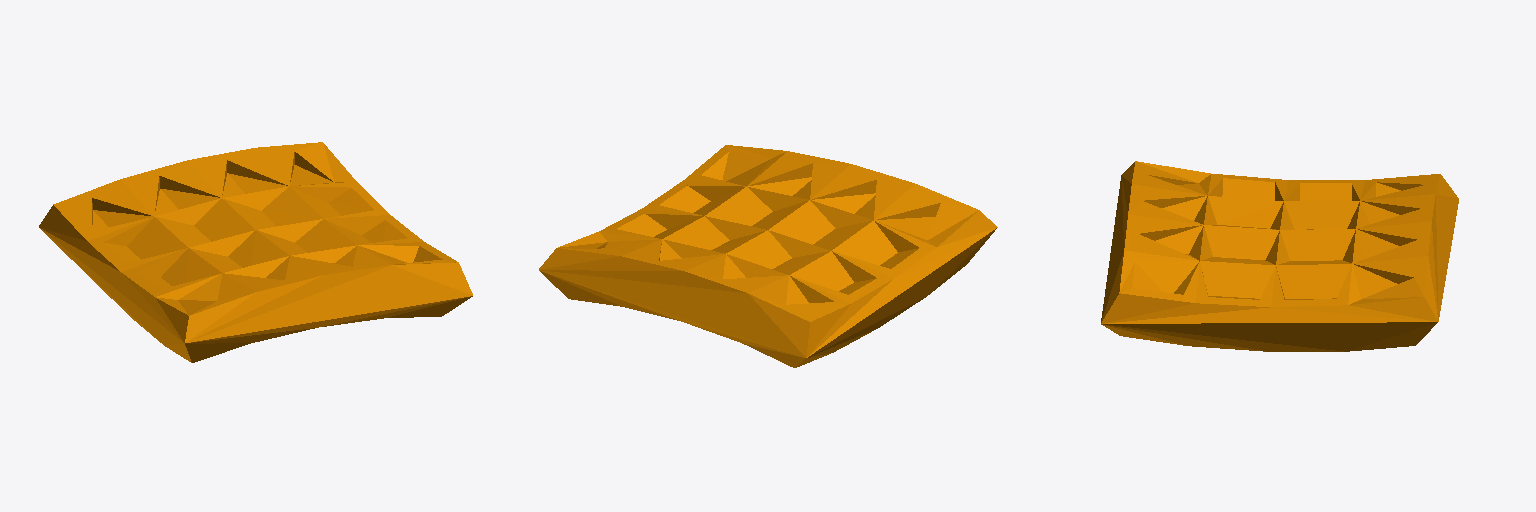
3 renders of one model, left to right at view 1: azimuth 30°, elevation 25°; view 2: azimuth 150°, elevation 25°; view 3: azimuth 270°, elevation 25°, orthographic.
Parts seen in each view (by area): view 1: Cube_Mesh; view 2: Cube_Mesh; view 3: Cube_Mesh.
Boxes of the visible parts, x1,y1,x2,y2 form: Cube_Mesh: [39, 142, 472, 362]; Cube_Mesh: [539, 145, 997, 367]; Cube_Mesh: [1101, 161, 1458, 351].
Size of the model in its own units: 0.1497 by 0.0365 by 0.1544.
1 materials, 1 textured.